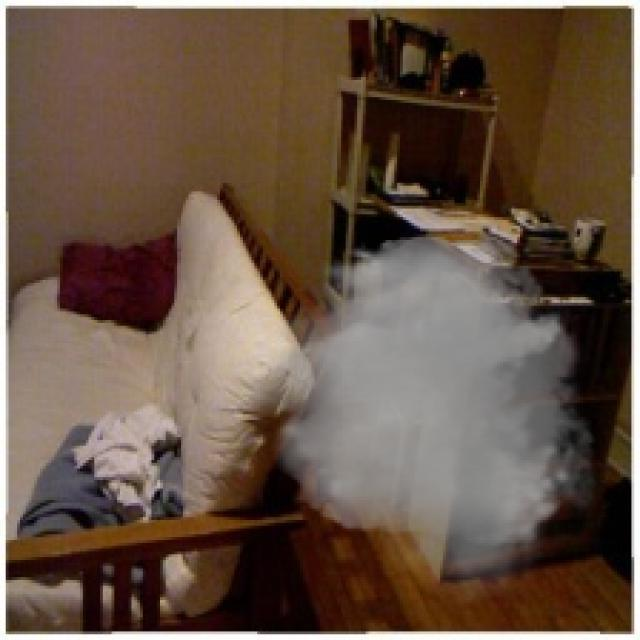Smoke: (228, 225, 612, 606)
